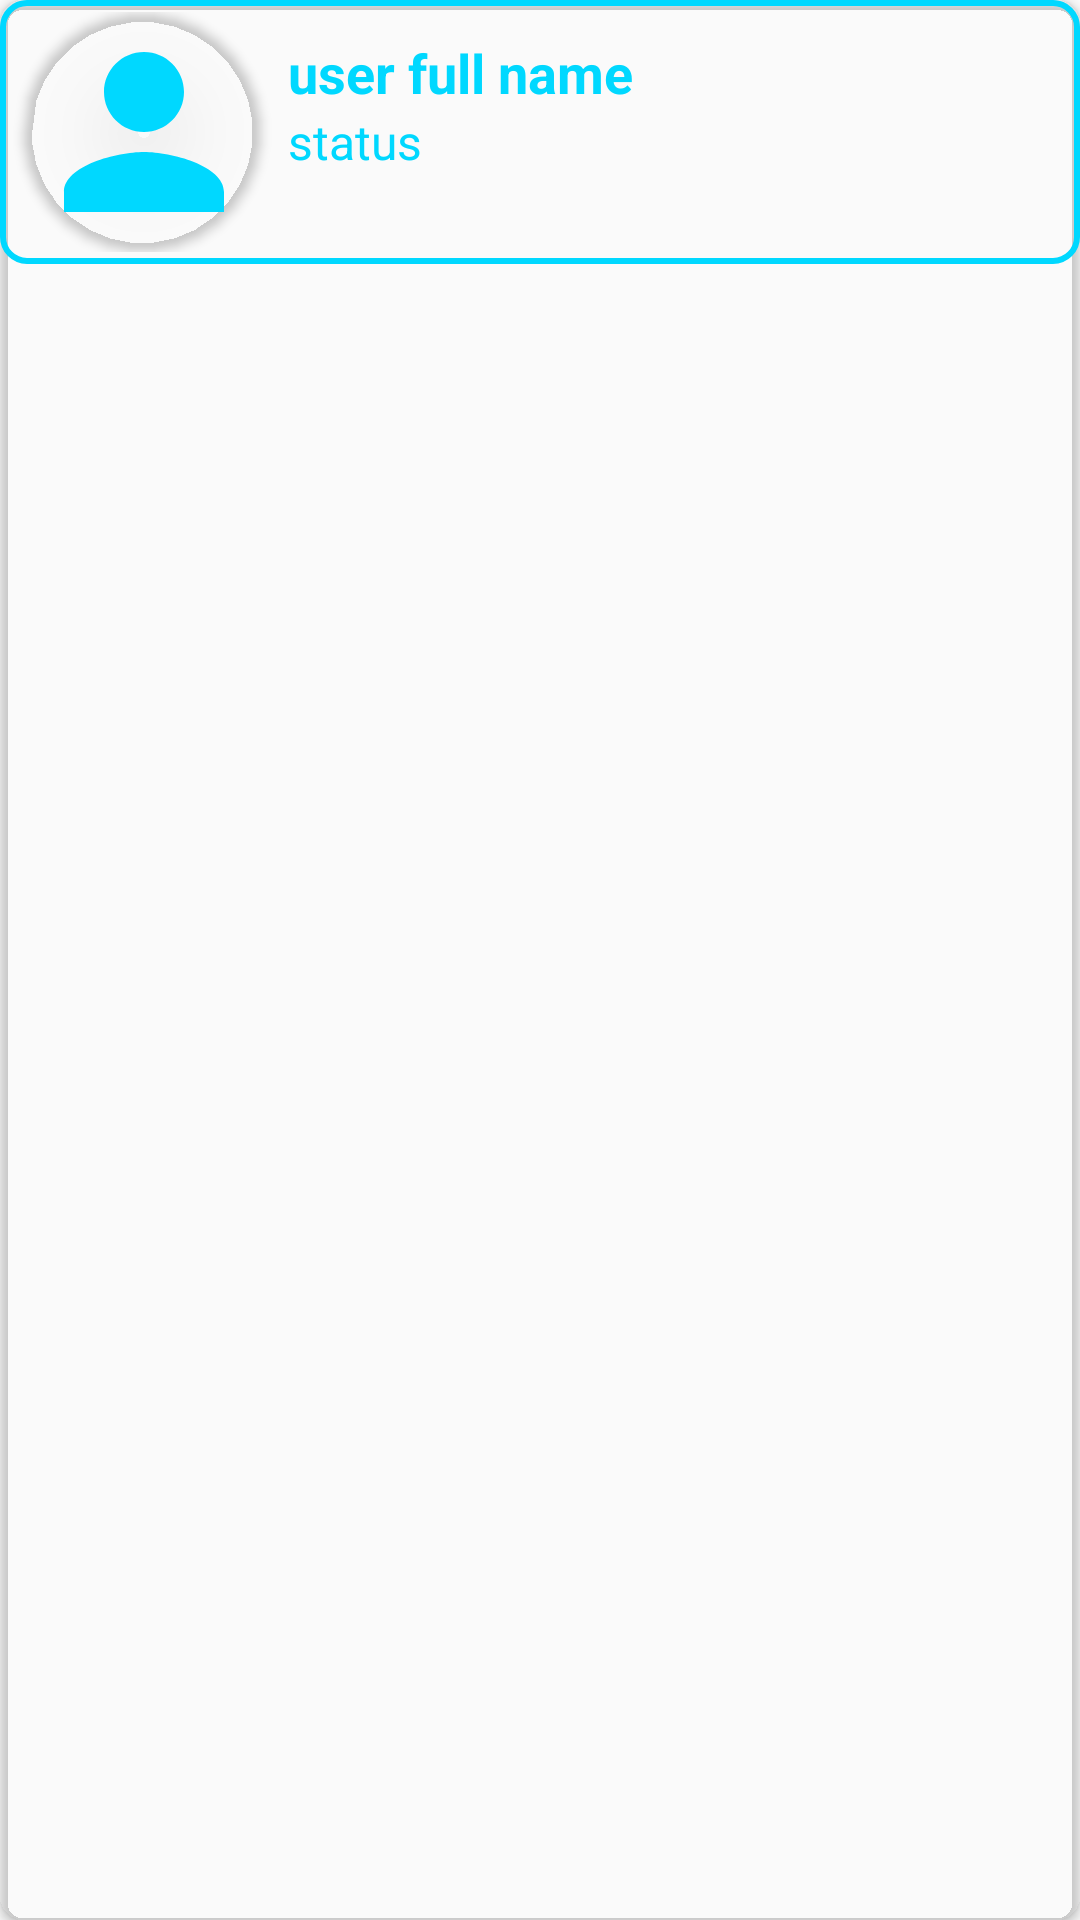

Where icons sit on this 1080*1920 app screen, as (x1, y1, x2, y2):
person: (24, 14, 260, 251)
